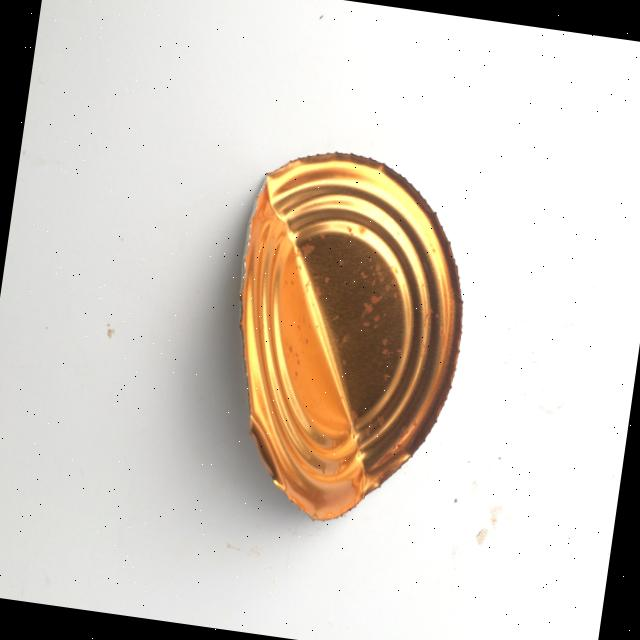metal: (208, 138, 486, 538)
